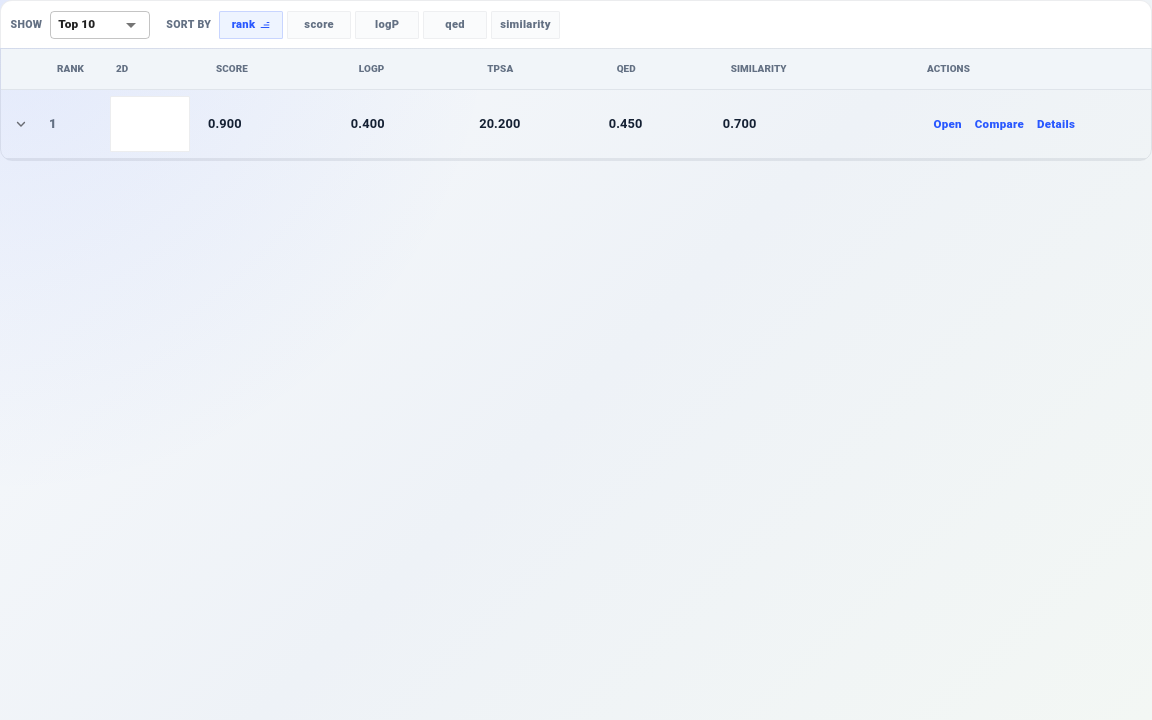
Test: GeneratedMoleculeTable › opens candidate details from the table
What coordinates should you click on to do the following:
click the button "Details"
I would click on:
 (1056, 124)
Its box is [1030,111,1082,137].
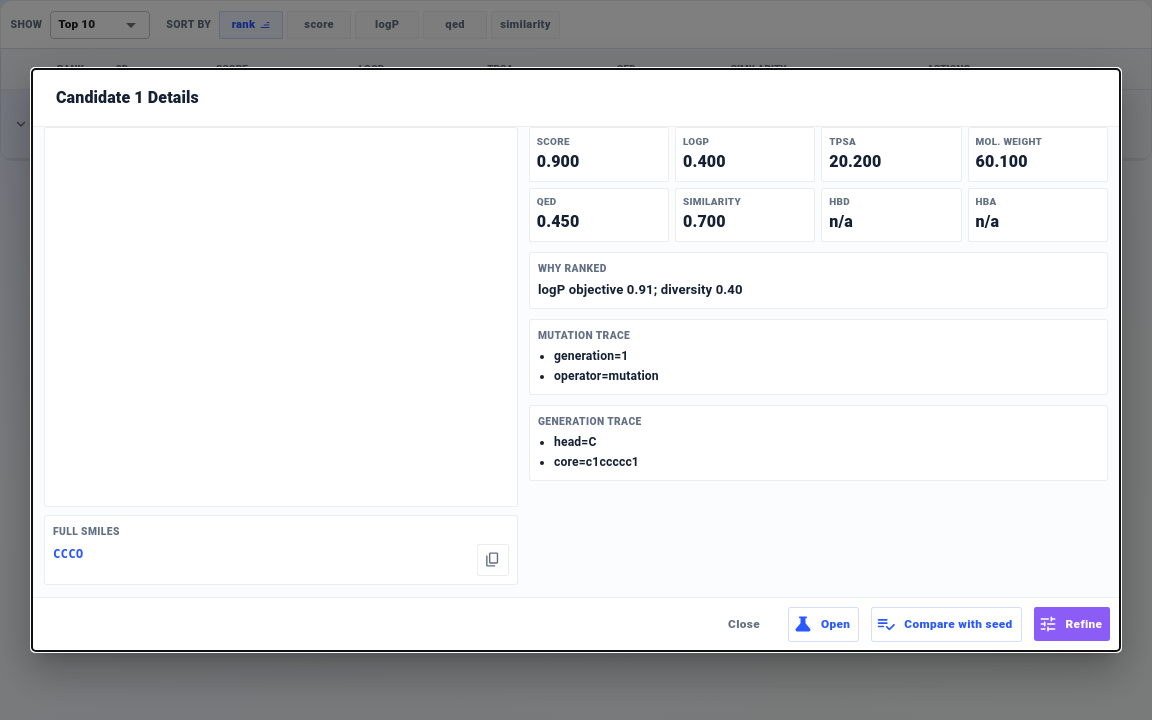
Now the heading "Candidate 1 Details" is shown, box [32,69,1120,127]
Now the list item "head=C" is shown, box [554,435,597,449]
